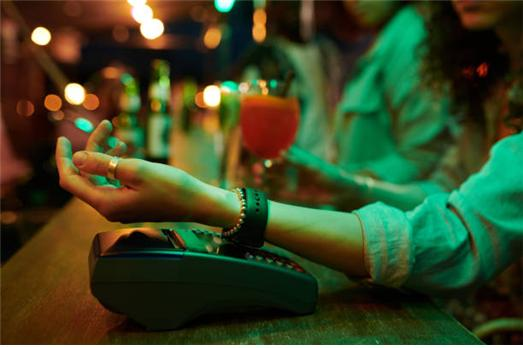alcohol: (237, 78, 301, 192), (149, 68, 180, 156), (118, 83, 150, 155)
cigarette: (72, 115, 125, 152)
